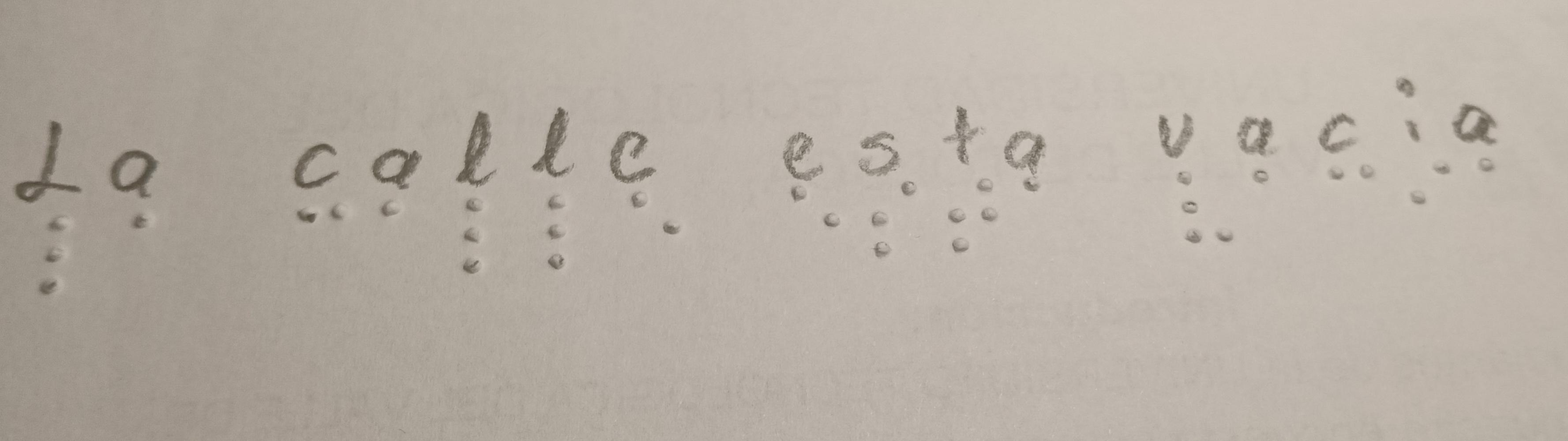a: (1460, 152, 1527, 185), (364, 194, 406, 234), (1008, 170, 1057, 201), (110, 214, 168, 240), (1242, 165, 1279, 201)
c: (1306, 161, 1390, 196), (285, 201, 357, 234)
e: (770, 179, 849, 243), (613, 183, 690, 243)
i: (1401, 154, 1456, 214)
l: (443, 190, 510, 280), (527, 187, 587, 284), (38, 209, 86, 318)
s: (854, 176, 927, 260)
t: (938, 165, 1004, 267)
v: (1160, 172, 1242, 256)
